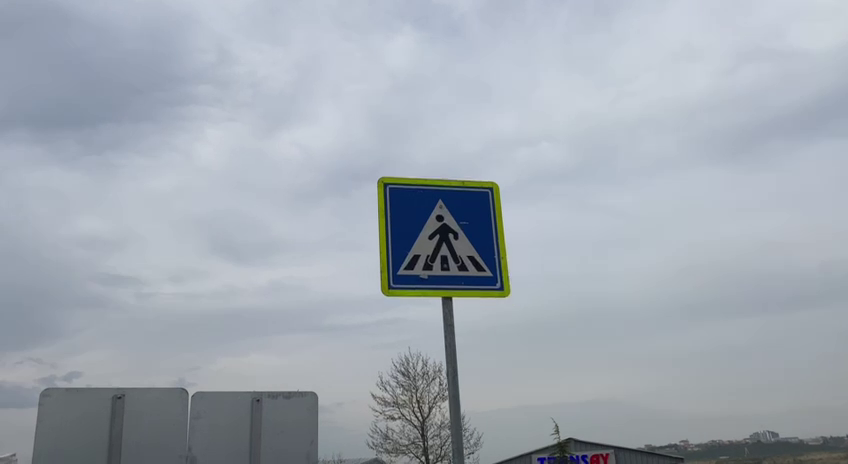pedestrianCrossing: (375, 174, 513, 302)
